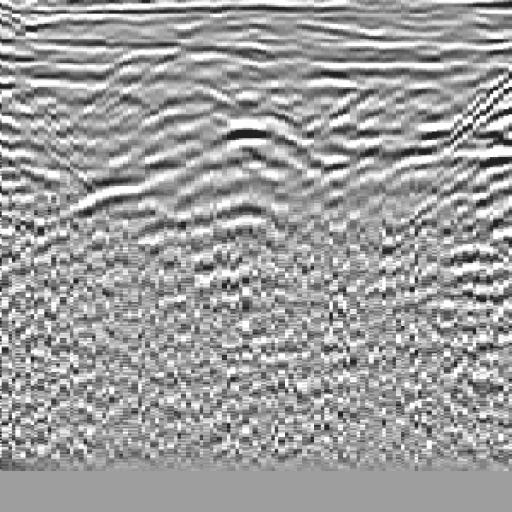metalic: (50, 63, 192, 264)
nonmetalic: (391, 43, 512, 269)
